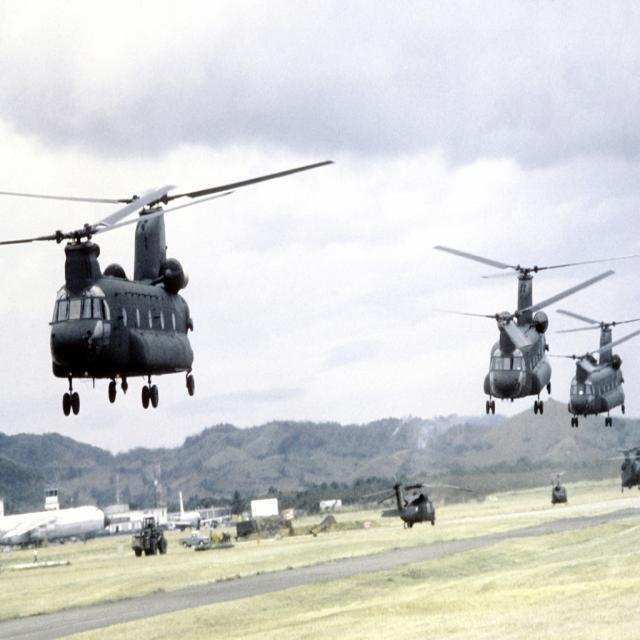helicopter: (3, 161, 337, 413), (437, 241, 607, 413), (563, 308, 640, 408), (378, 476, 474, 531), (540, 475, 574, 510), (624, 449, 640, 484)
